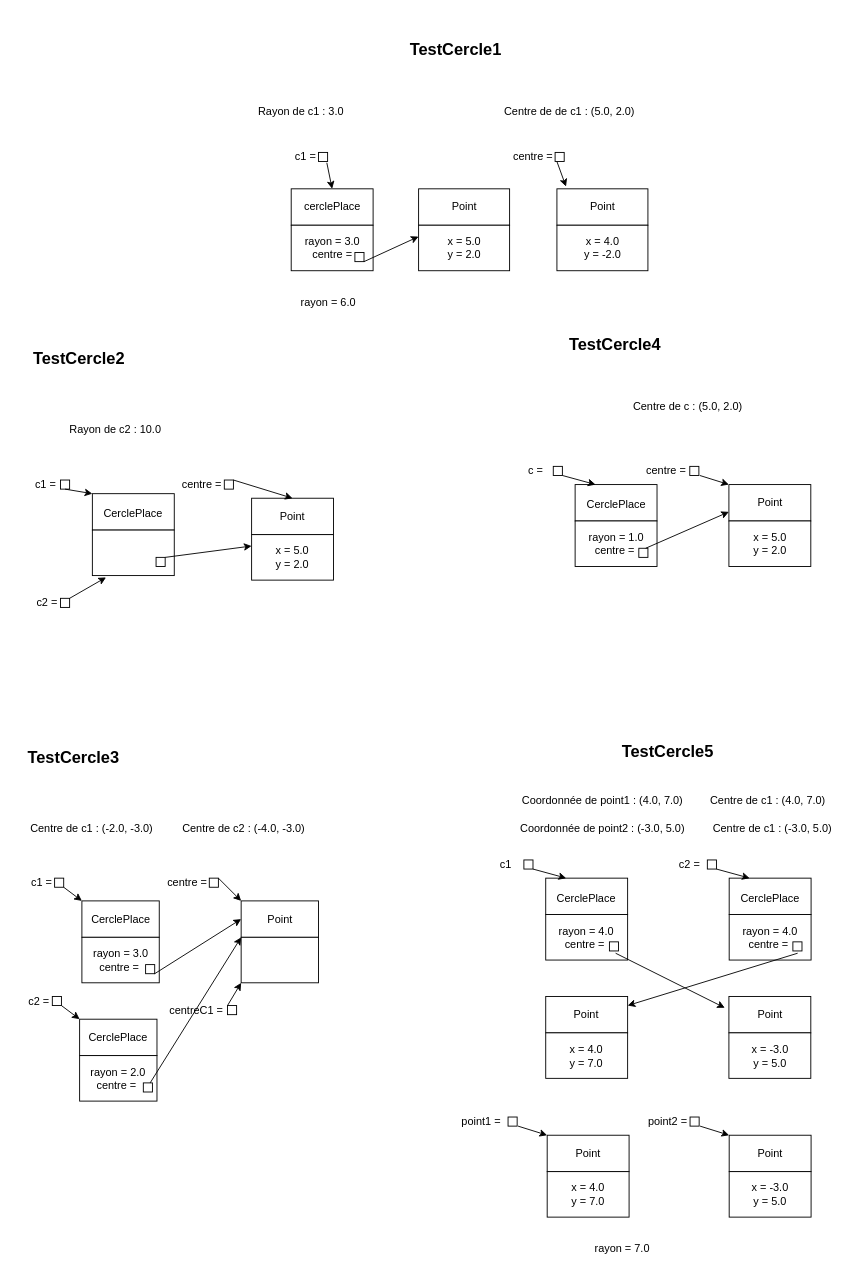
Image size: 855x1278. Some labels were removed from this diagram. Each missing label, with the centre of its shape:
"rayon = 10.0 centre =" goes at (x=132, y=552).
"x = -4.0 y = -3.0" goes at (x=279, y=959).
